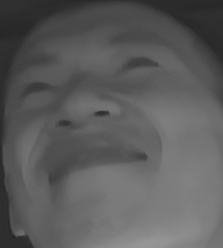eye: (118, 52, 160, 79), (17, 76, 60, 102)
mouth: (39, 136, 149, 192)
